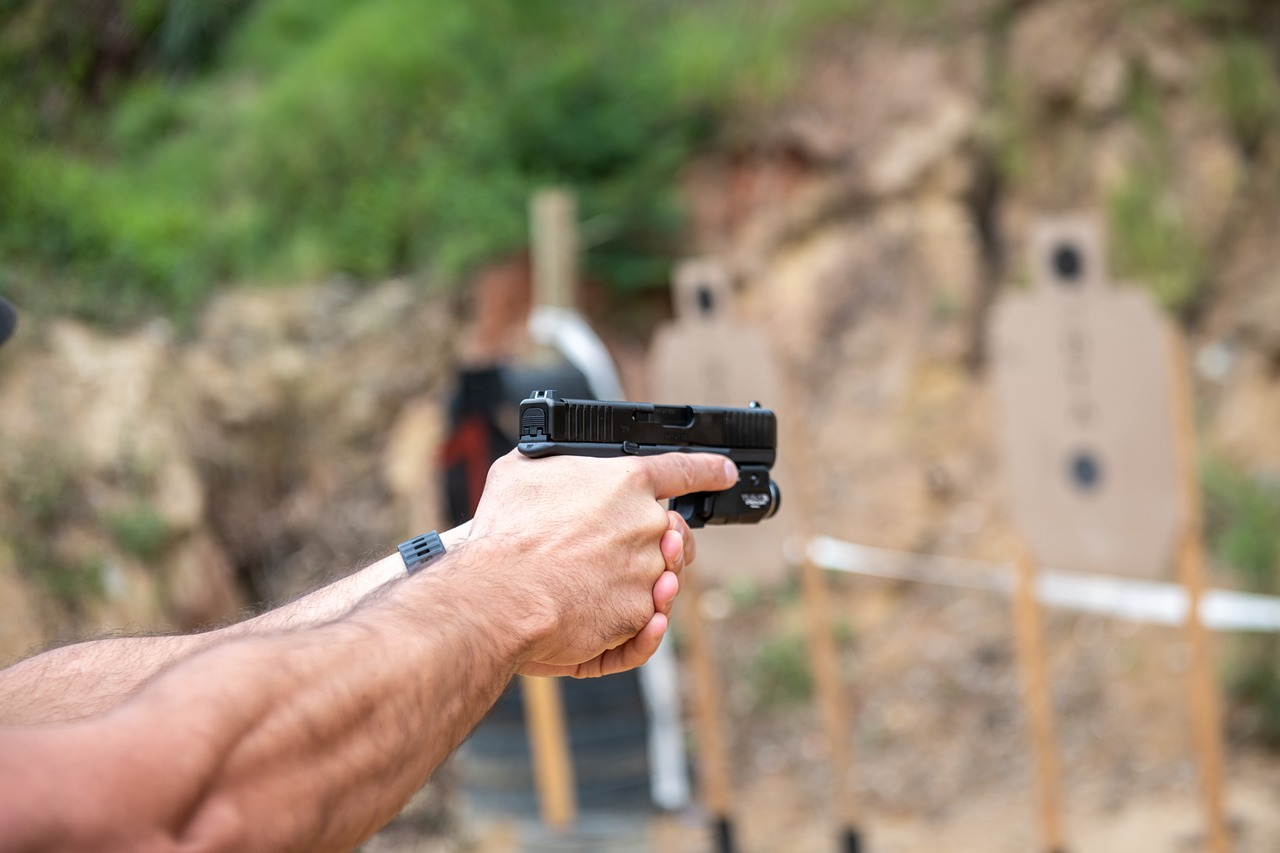gun: (512, 384, 787, 532)
